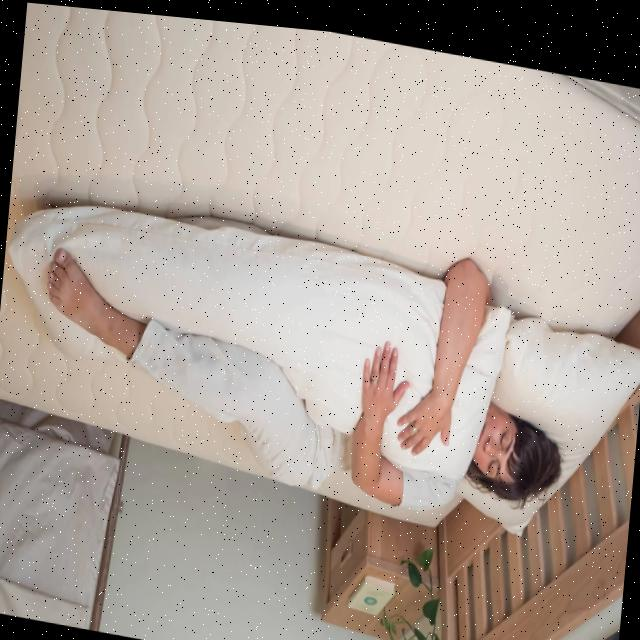sleeping-person: (28, 172, 596, 553)
